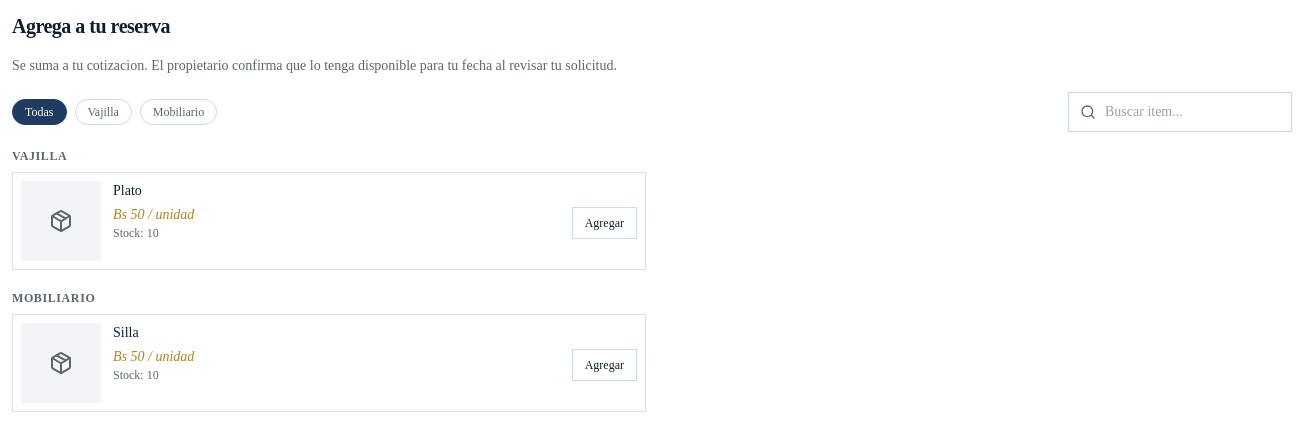
Scenario: VenueRentalItemCatalog › agrupa por categoria bajo su titulo, y quita el titulo al filtrar
This screenshot has width=1304, height=429.
Expected: the text "Silla" is shown, [113, 325, 139, 340]
Expected: the headings read "Vajilla", "Mobiliario", in this order, [12, 149, 67, 163]; [12, 291, 95, 305]
What coordinates should you click on to do the following:
click the button "Vajilla"
I would click on:
 (103, 112)
Its box is [74, 99, 132, 125].
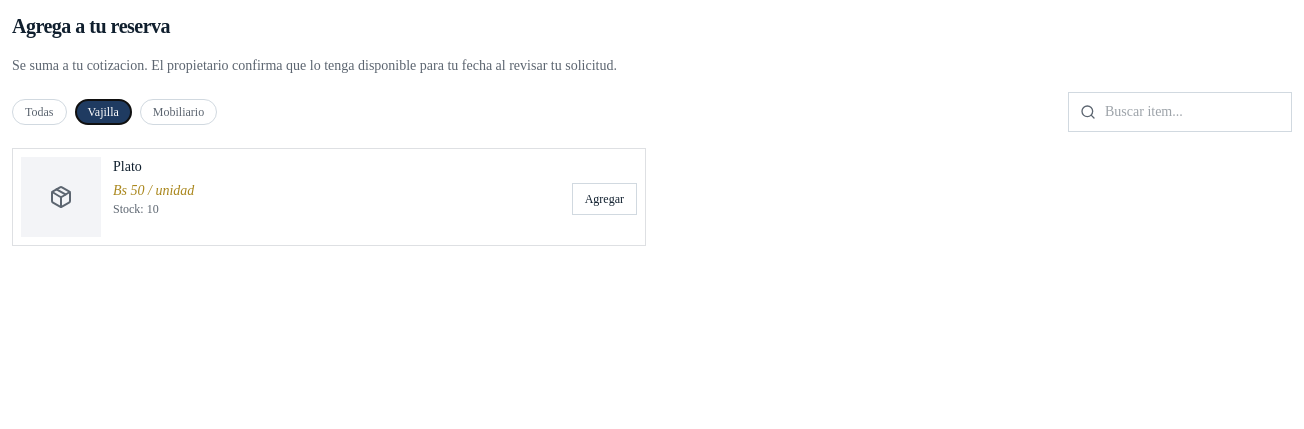
Expected: the text "Plato" is shown, [113, 159, 142, 174]
Now the text "Silla" is gone
